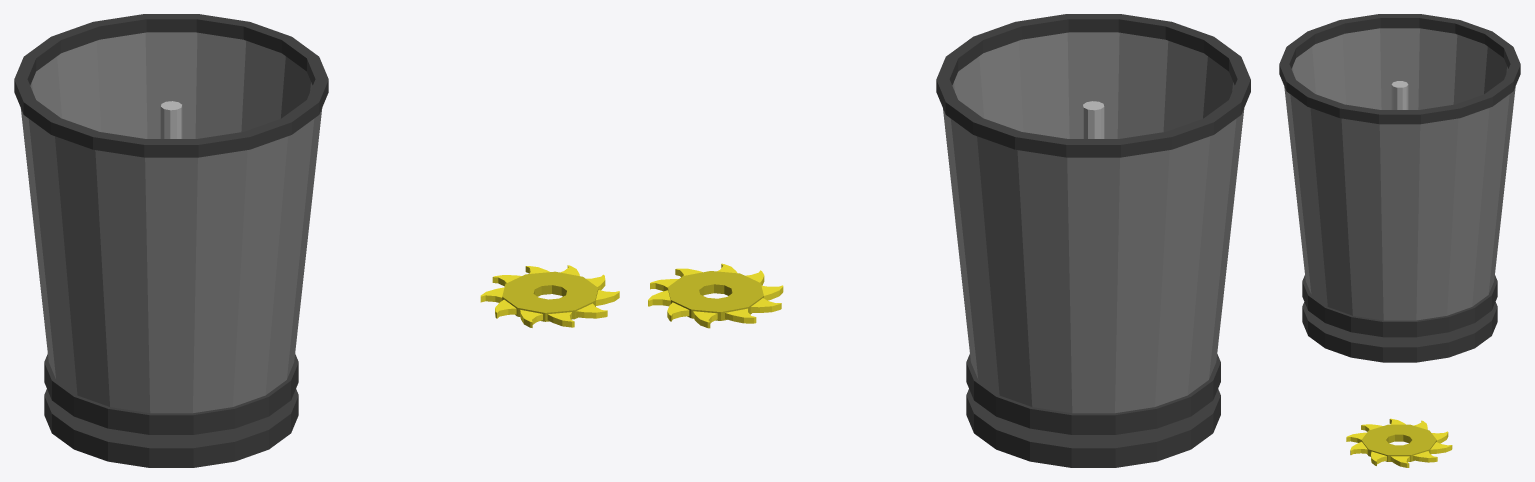
Rendered from lixeira.fbx.
The picture shows the model from 3 angles, left to right: view 1: azimuth 30°, elevation 25°; view 2: azimuth 150°, elevation 25°; view 3: azimuth 270°, elevation 25°; orthographic projection. The views are drawn at different scales.
Parts seen in each view (by area): view 1: LixeiraComSerra, Serra; view 2: LixeiraComSerra, Serra; view 3: LixeiraComSerra, Serra.
Part boxes in pixels (box(x1,y1,x2,y2)): LixeiraComSerra: box(14, 14, 328, 467); Serra: box(480, 265, 619, 327); LixeiraComSerra: box(936, 14, 1250, 467); Serra: box(648, 263, 783, 328); LixeiraComSerra: box(1279, 14, 1520, 362); Serra: box(1346, 418, 1452, 467).
Size of the model in its own units: 302 by 170 by 144.
